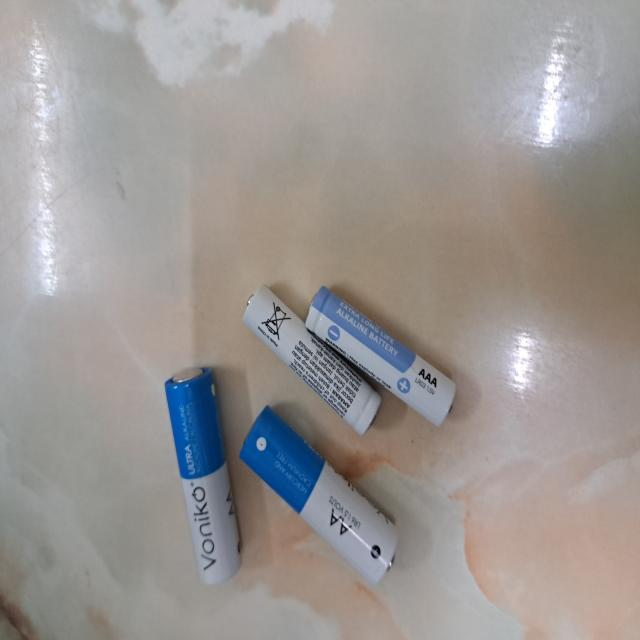battery: (239, 405, 399, 584), (242, 282, 382, 438), (304, 286, 457, 427), (166, 366, 244, 587)
